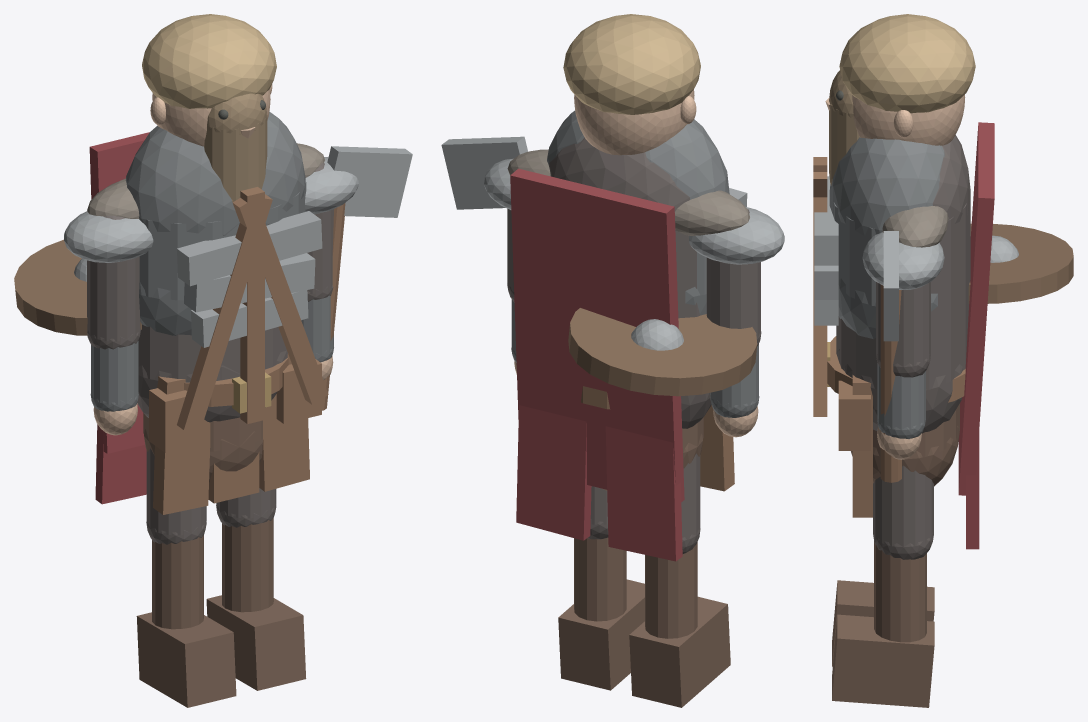
File: Midgard_Hero_Viking_Skin_V1_YUP.glb
3 views of the same model, side by side, from view 1: azimuth 30°, elevation 25°; view 2: azimuth 150°, elevation 25°; view 3: azimuth 270°, elevation 25° (orthographic).
Parts seen in each view (by area): view 1: ChestArmor, HairScalp, Boot_L, Boot_R, Shield, Torso, Beard, TorsoStrap_0, Arm_L_Upper, Leg_L_Shin, Leg_R_Shin, TorsoStrap_1 (+26 smaller); view 2: Cape, Shield, HairScalp, CapeTail_-0.25, CapeTail_0.25, Torso, Boot_L, Boot_R, ChestArmor, Leg_L_Shin, Leg_R_Shin, Head (+14 smaller); view 3: ChestArmor, Torso, HairScalp, Boot_R, Cape, Shield, Leg_R_Thigh, Leg_R_Shin, Arm_R_Upper, Head, Pelvis, Arm_R_Forearm (+17 smaller).
Part boxes in pixels (x1=…): ChestArmor: x1=125, y1=111, x2=306, y2=335; HairScalp: x1=142, y1=14, x2=276, y2=108; Boot_L: x1=136, y1=612, x2=236, y2=707; Boot_R: x1=206, y1=595, x2=306, y2=690; Shield: x1=14, y1=239, x2=141, y2=335; Torso: x1=137, y1=324, x2=287, y2=422; Beard: x1=204, y1=93, x2=267, y2=202; TorsoStrap_0: x1=177, y1=194, x2=272, y2=432; Arm_L_Upper: x1=87, y1=215, x2=140, y2=349; Leg_L_Shin: x1=152, y1=535, x2=203, y2=629; Leg_R_Shin: x1=222, y1=518, x2=273, y2=612; TorsoStrap_1: x1=240, y1=187, x2=264, y2=423; Cape: x1=510, y1=168, x2=684, y2=501; Shield: x1=568, y1=308, x2=757, y2=396; HairScalp: x1=563, y1=14, x2=700, y2=114; CapeTail_-0.25: x1=605, y1=426, x2=682, y2=561; CapeTail_0.25: x1=516, y1=405, x2=591, y2=540; Torso: x1=549, y1=137, x2=711, y2=428; Boot_L: x1=629, y1=596, x2=730, y2=707; Boot_R: x1=558, y1=579, x2=644, y2=690; ChestArmor: x1=547, y1=110, x2=729, y2=315; Leg_L_Shin: x1=645, y1=542, x2=697, y2=638; Leg_R_Shin: x1=574, y1=537, x2=626, y2=621; Head: x1=574, y1=89, x2=694, y2=155; ChestArmor: x1=829, y1=137, x2=944, y2=338; Torso: x1=836, y1=135, x2=970, y2=433; HairScalp: x1=839, y1=14, x2=975, y2=113; Boot_R: x1=832, y1=614, x2=934, y2=707; Cape: x1=958, y1=122, x2=994, y2=495; Shield: x1=968, y1=223, x2=1073, y2=303; Leg_R_Thigh: x1=873, y1=465, x2=933, y2=559; Leg_R_Shin: x1=874, y1=541, x2=926, y2=642; Arm_R_Upper: x1=876, y1=282, x2=930, y2=377; Head: x1=852, y1=94, x2=965, y2=145; Pelvis: x1=851, y1=403, x2=959, y2=486; Arm_R_Forearm: x1=877, y1=363, x2=925, y2=438.
Bounding box in the file's own units: 1.94 × 3.57 × 1.28.
